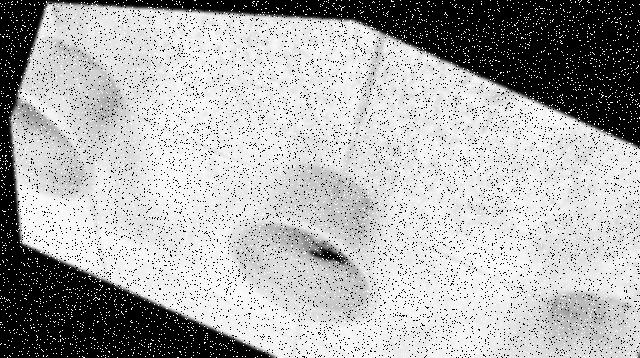pot: (228, 164, 381, 325), (10, 34, 128, 198), (530, 289, 640, 358)
